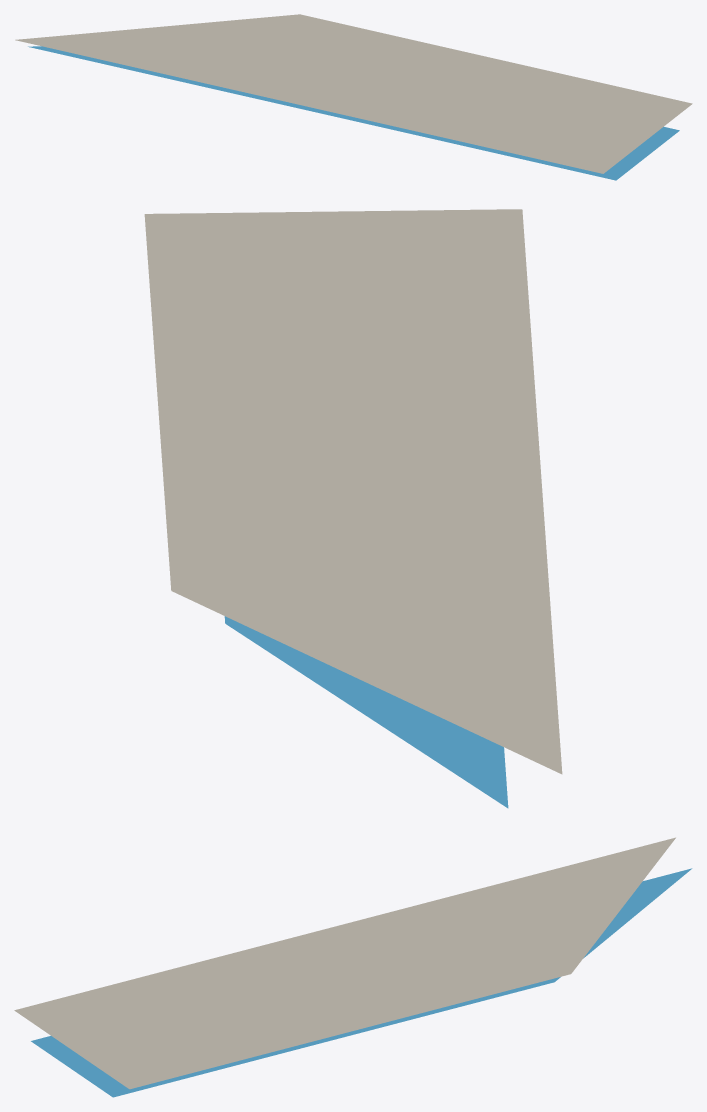
3 renders of one model, top to bottom at view 1: azimuth 30°, elevation 25°; view 2: azimuth 150°, elevation 25°; view 3: azimuth 270°, elevation 25°, orthographic. The views are drawn at different scales.
Parts seen in each view (by area): view 1: estructura_terreno, estructura_agua; view 2: estructura_terreno, estructura_agua; view 3: estructura_terreno, estructura_agua.
Part boxes in pixels (x1,y1,x2,y2): estructura_terreno: (15, 14, 692, 173); estructura_agua: (28, 46, 679, 180); estructura_terreno: (144, 209, 562, 774); estructura_agua: (224, 616, 508, 808); estructura_terreno: (14, 837, 675, 1089); estructura_agua: (31, 868, 692, 1097).
Size of the model in its own units: 11.39 by 0.41 by 12.97.
